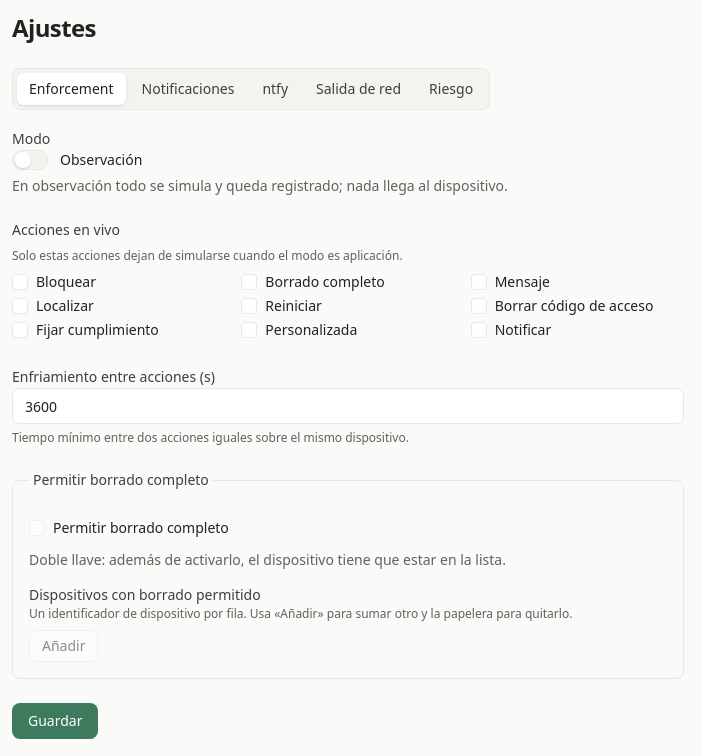
Test case: una fila de riesgo por geocerca sin geocerca muestra el error en la pestaña de riesgo
The image size is (701, 756).
Click the tab "Riesgo" at (451, 89), box [417,73,485,105]
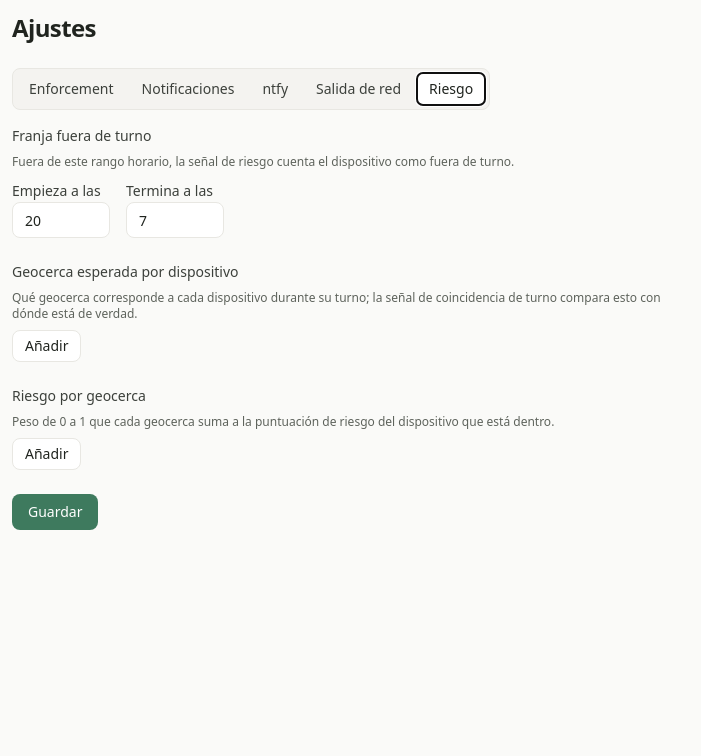
Click the button "Añadir" below "Riesgo por geocerca" at (47, 454), box [12,438,82,470]
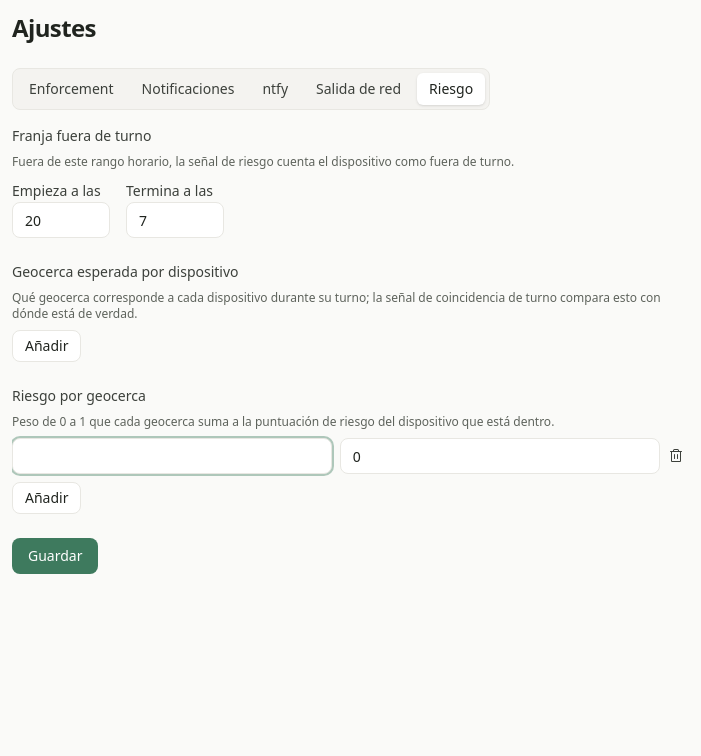
Click the button "Guardar" at (55, 556), box [12,538,98,574]
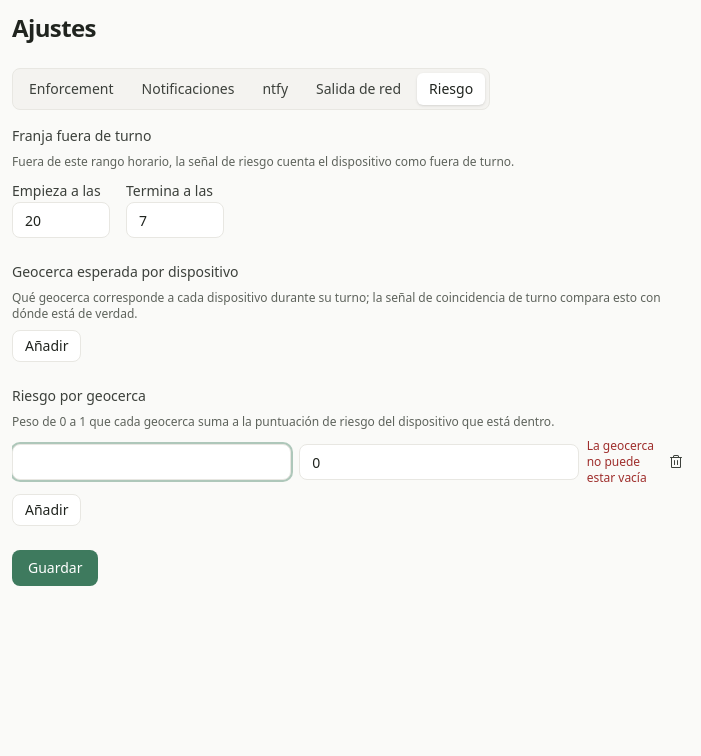
Now the message "La geocerca no puede estar vacía" is shown, box [587,438,660,486]
